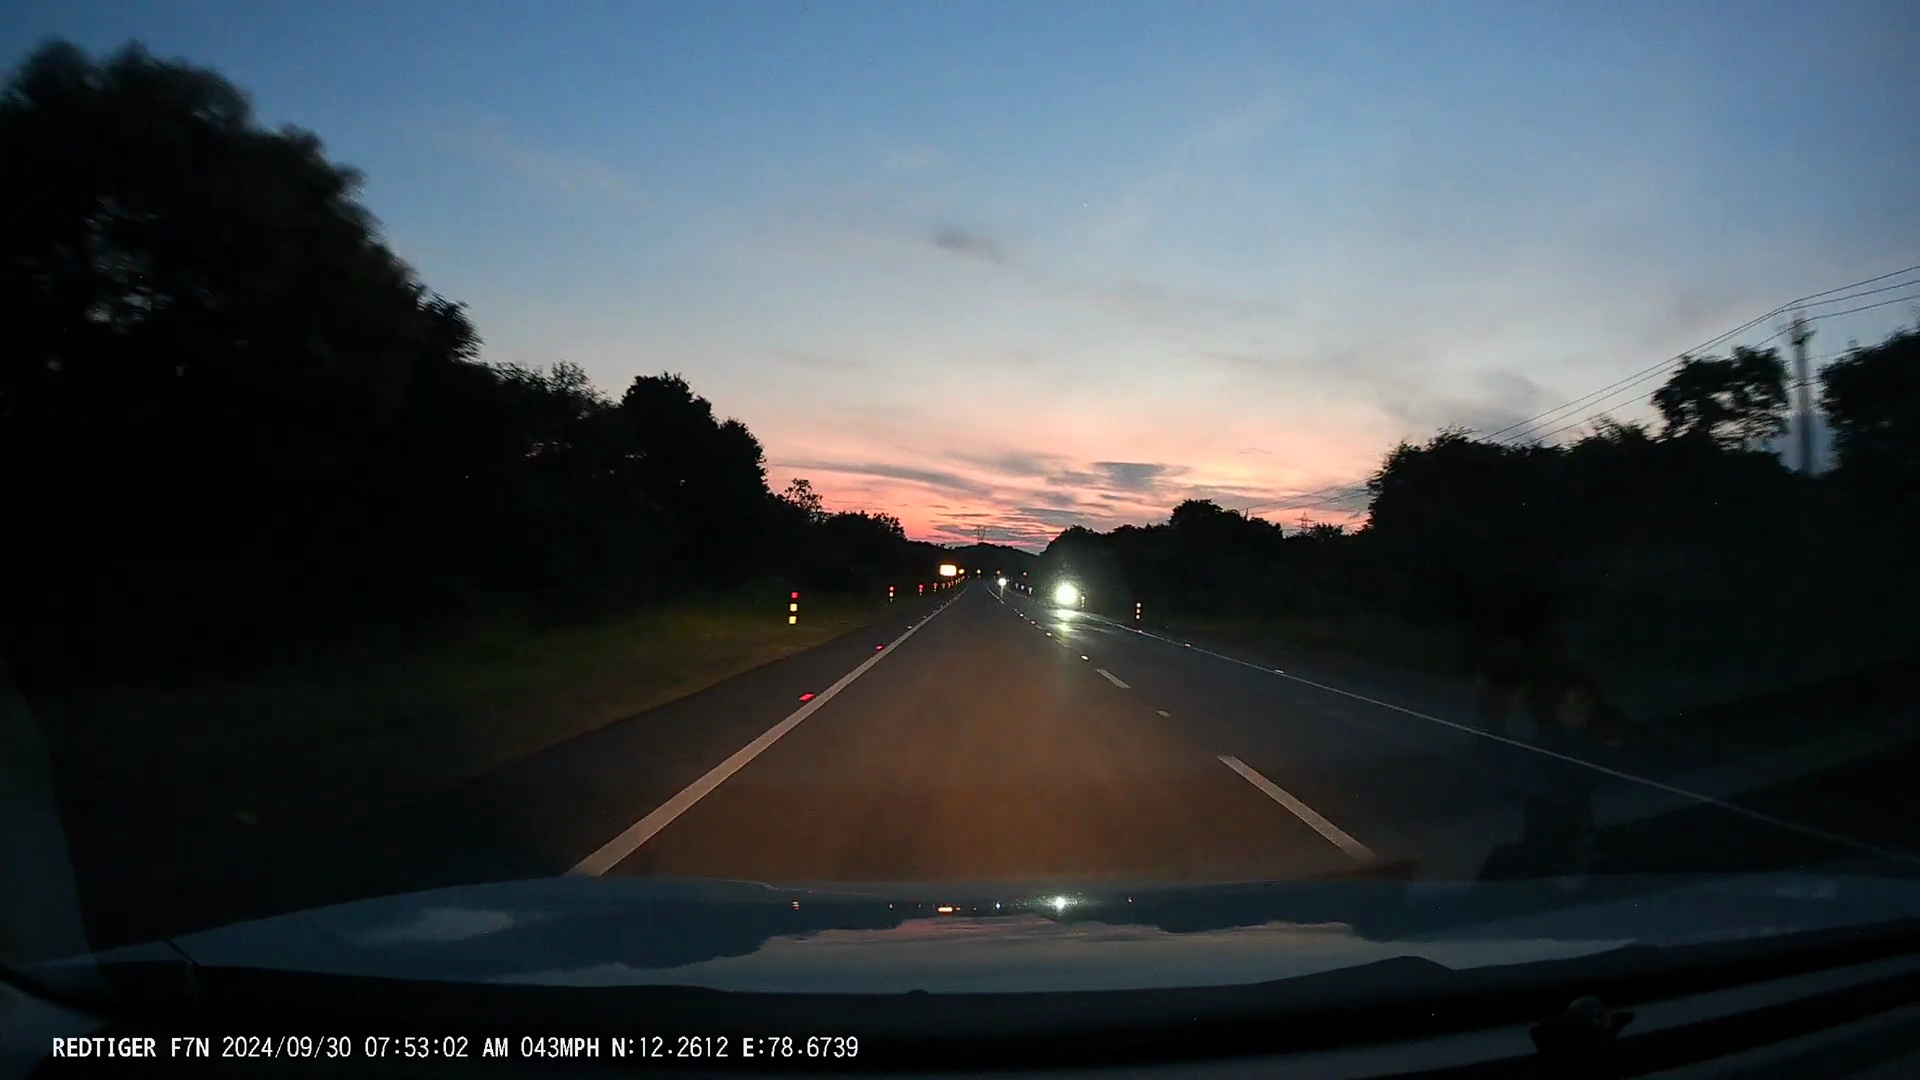headlight: (1054, 582, 1076, 607), (997, 578, 1007, 588)
two wheeler: (1051, 567, 1073, 618), (997, 560, 1005, 600)
